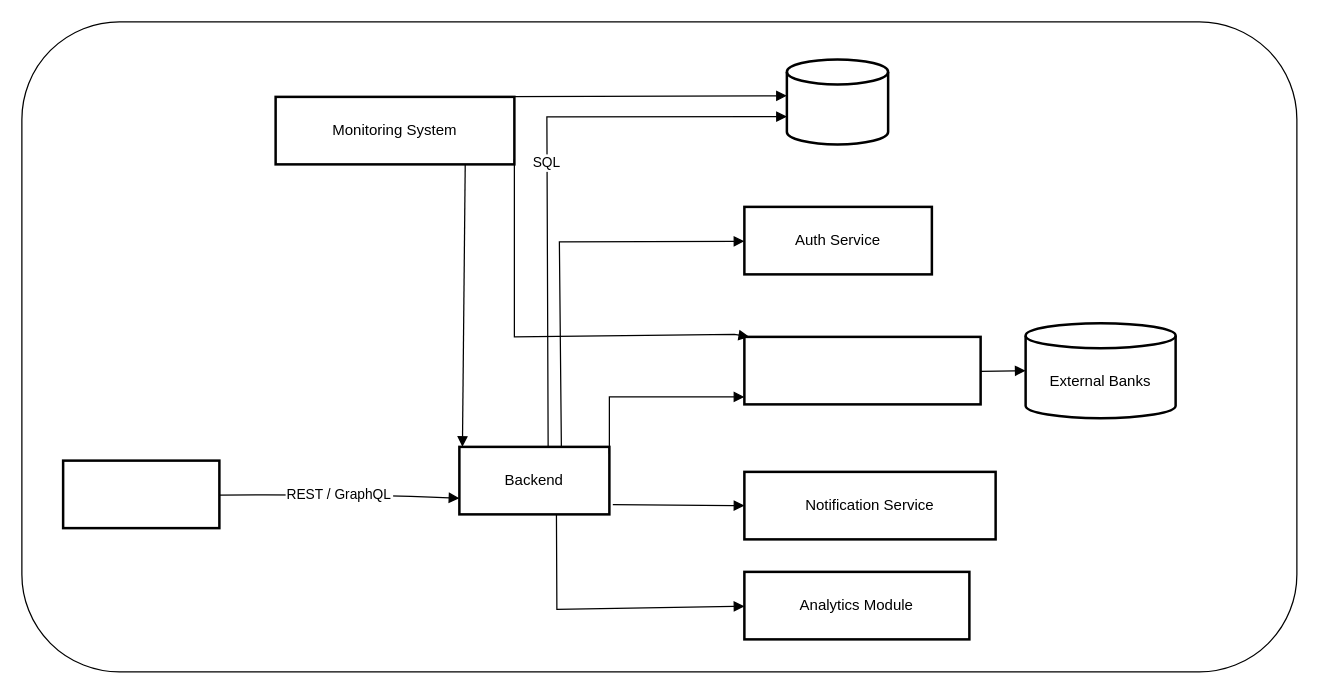
This 1319x694 diagram has some shape labels left out. The centre of each missing label's shape, as x and y in pixels:
"Database" belongs at point (837, 101).
"Frontend" belongs at point (140, 494).
"Payment Gateway" belongs at point (861, 370).
